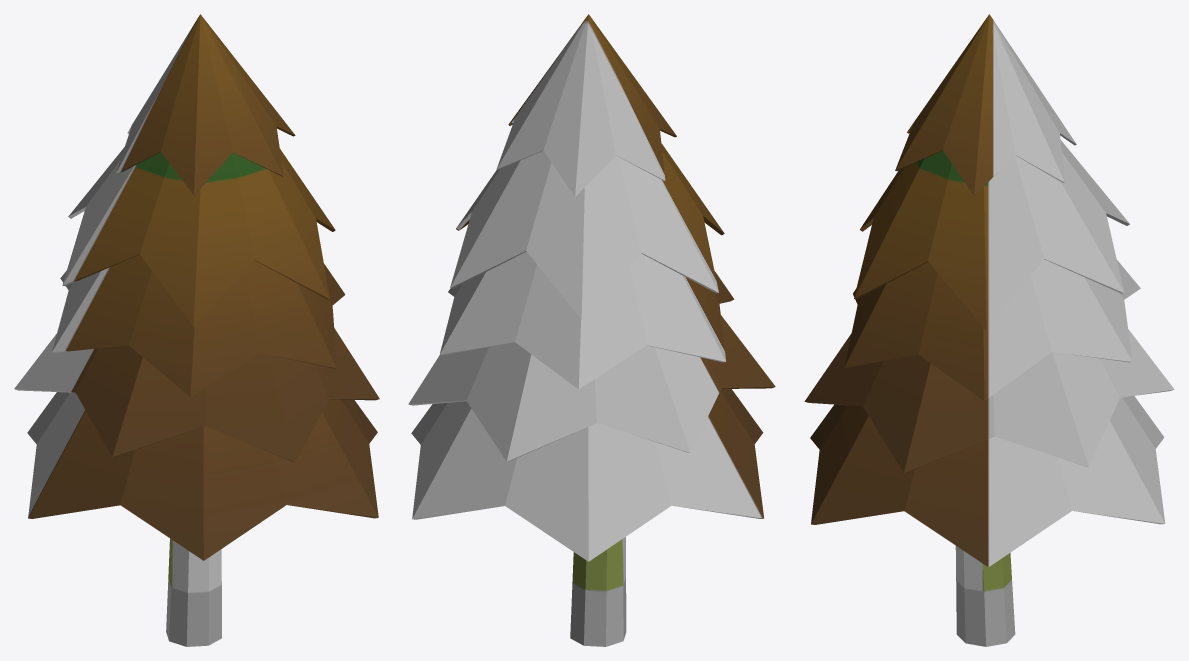
The model's file is Tree_23.fbx.
3 views of the same model, side by side, from view 1: azimuth 30°, elevation 25°; view 2: azimuth 150°, elevation 25°; view 3: azimuth 270°, elevation 25° (orthographic).
Parts seen in each view (by area): view 1: Tree_23; view 2: Tree_23; view 3: Tree_23.
Boxes of the visible parts, x1=… form: Tree_23: x1=14, y1=14, x2=379, y2=646; Tree_23: x1=408, y1=14, x2=775, y2=646; Tree_23: x1=804, y1=14, x2=1174, y2=646.
Size of the model in its own units: 5.11 by 8.61 by 4.63.
